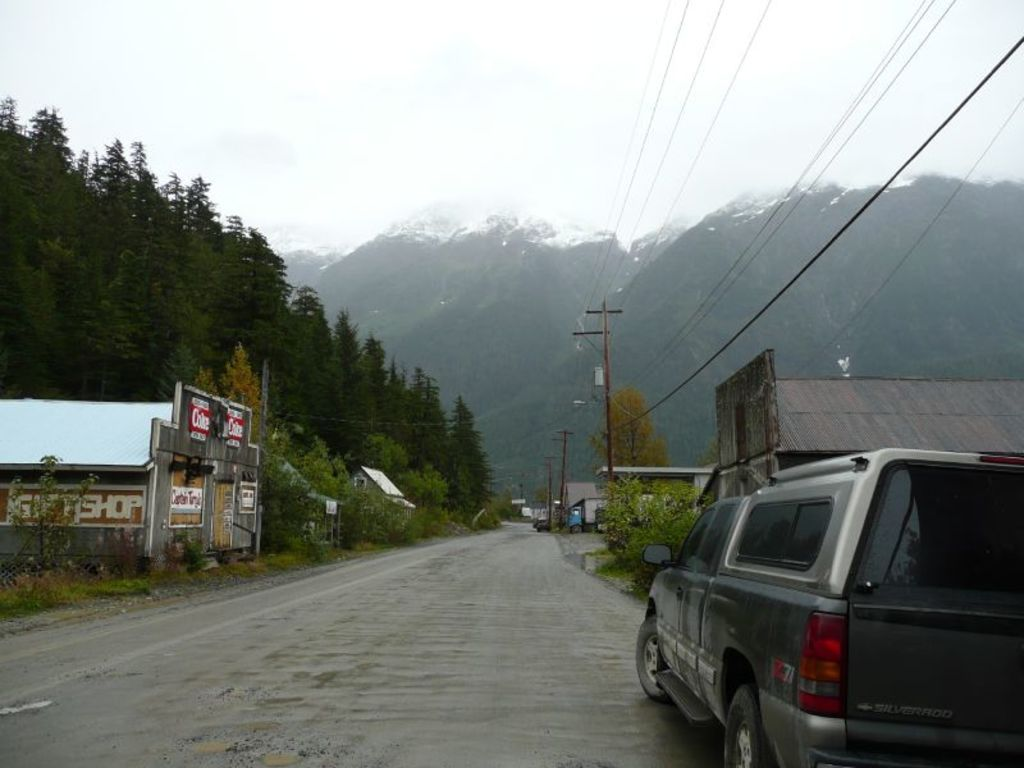Car: (634, 450, 1022, 766), (538, 519, 550, 533), (532, 520, 540, 527)
